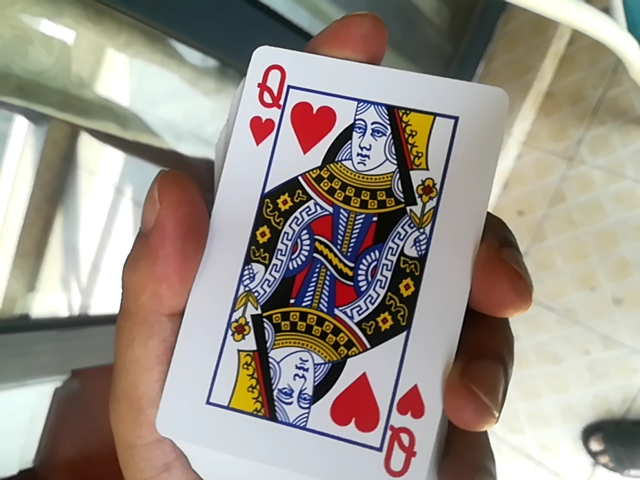hx q: (143, 41, 477, 477)
